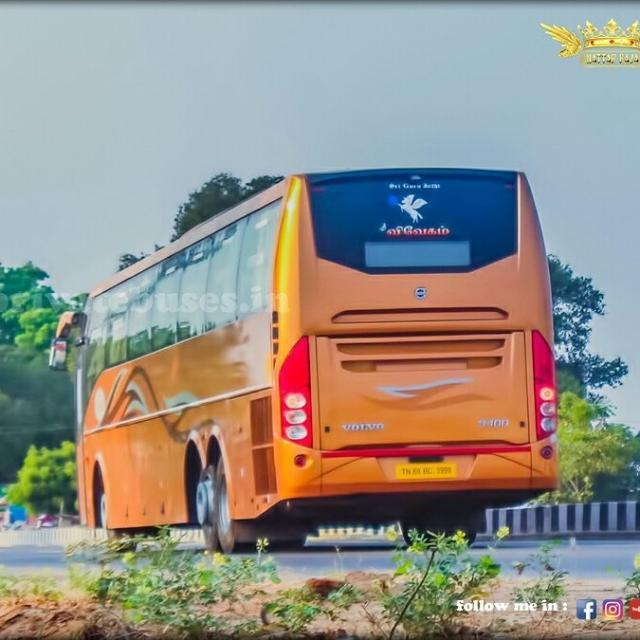Bus: (46, 165, 566, 558)
